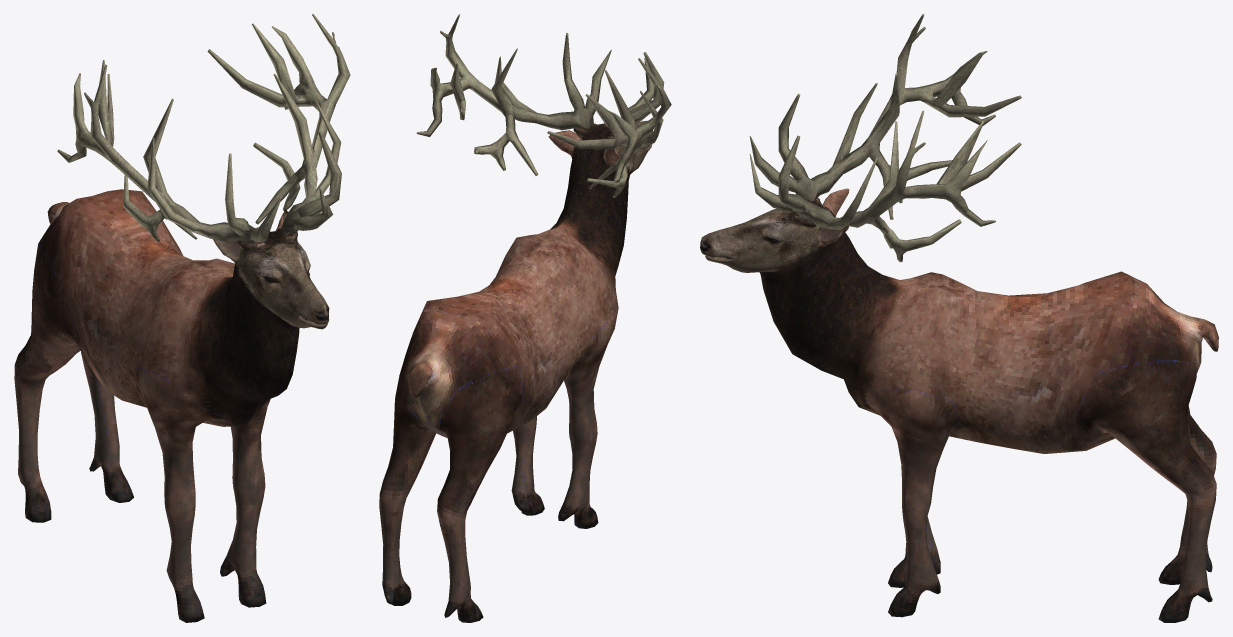
The model's file is natural-stag-weathered.glb.
3 views of the same model, side by side, from view 1: azimuth 30°, elevation 25°; view 2: azimuth 150°, elevation 25°; view 3: azimuth 270°, elevation 25° (orthographic). The views are drawn at different scales.
Visible parts, largest first — view 1: natural-stag-weathered runtime mesh; view 2: natural-stag-weathered runtime mesh; view 3: natural-stag-weathered runtime mesh.
Part boxes in pixels (box(x1,y1,x2,y2)): natural-stag-weathered runtime mesh: box(14, 14, 350, 622); natural-stag-weathered runtime mesh: box(379, 14, 671, 622); natural-stag-weathered runtime mesh: box(700, 14, 1218, 622).
Bounding box in the file's own units: 0.9247 × 1.95 × 1.71.
Materials: 4 (3 with a texture image).
